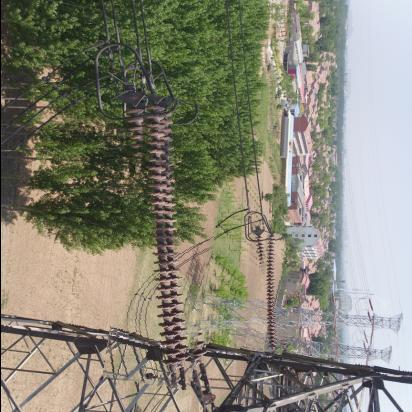insulator: (114, 97, 224, 389), (249, 235, 300, 355)
